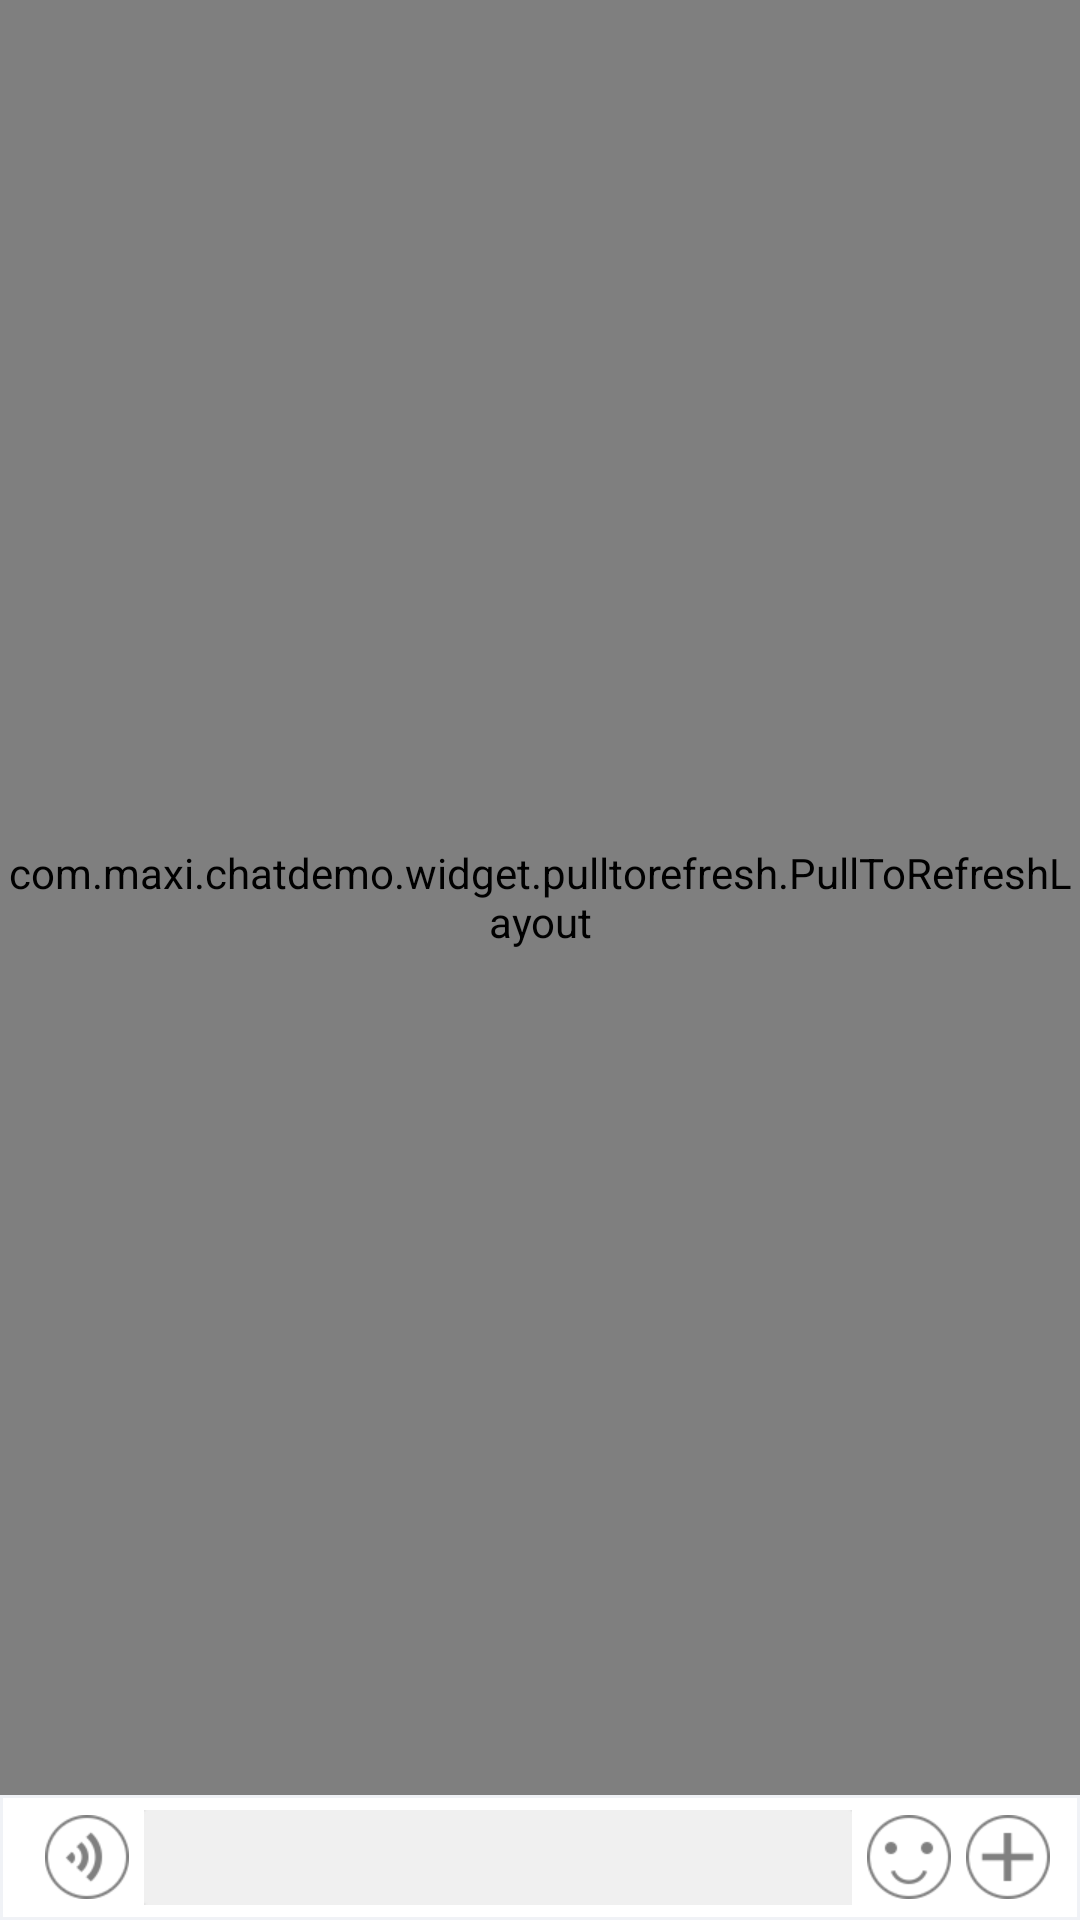

Screen size 1080px x 1920px. Icon name, then its center in pixels as point (x, y):
emoji: point (909, 1857)
more: point (1008, 1857)
